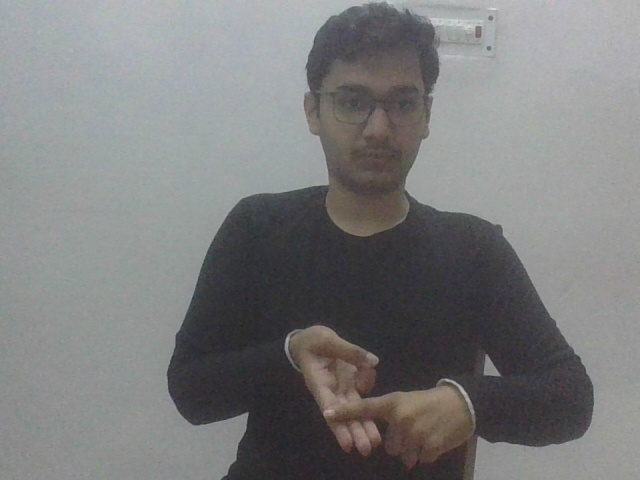E: (285, 325, 475, 469)
